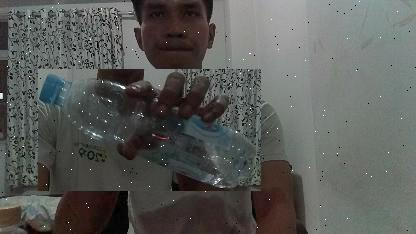Plastic Bottle: (39, 69, 261, 191)
